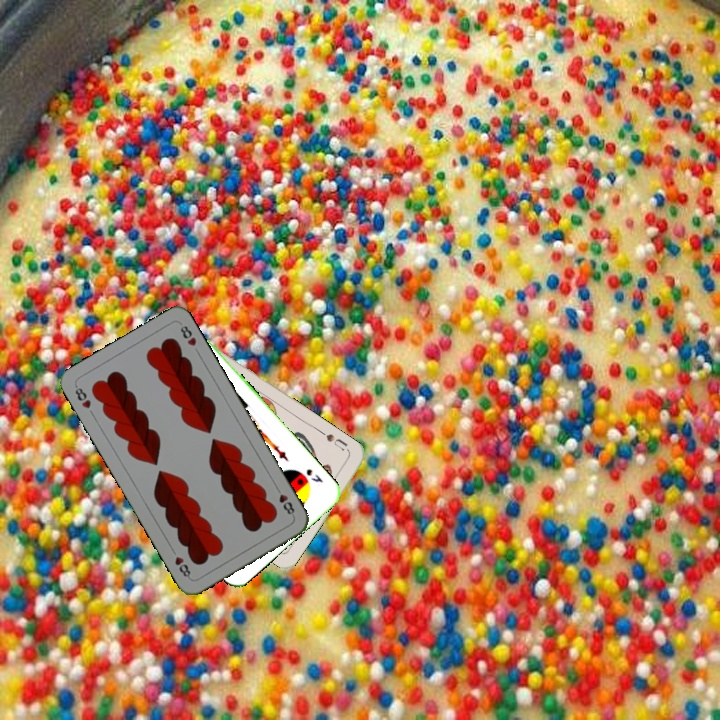H8: (271, 482, 297, 519), (71, 381, 93, 411)
SK: (302, 465, 326, 485)
SU: (322, 430, 350, 454)
